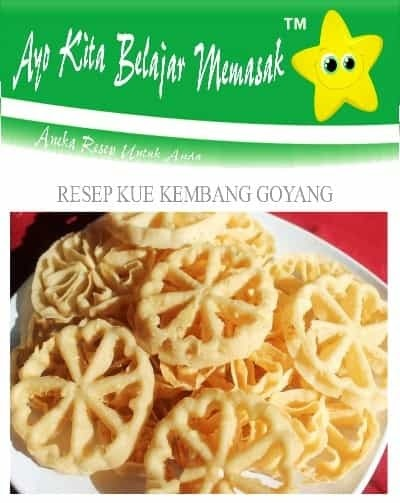kembang_goyang: (13, 324, 142, 470), (137, 235, 269, 368), (291, 266, 393, 404)
